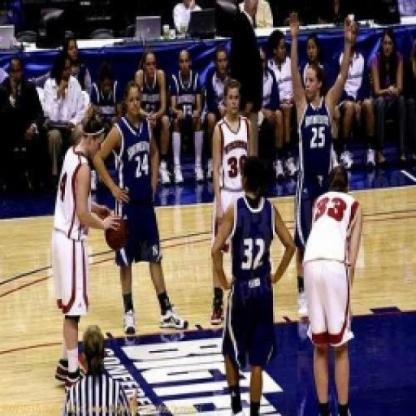basketball: (100, 214, 133, 249)
